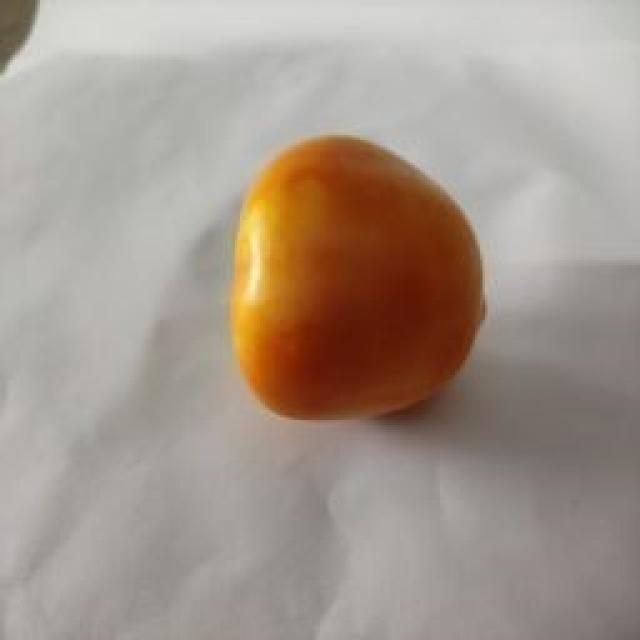unripe: (198, 58, 422, 422)
